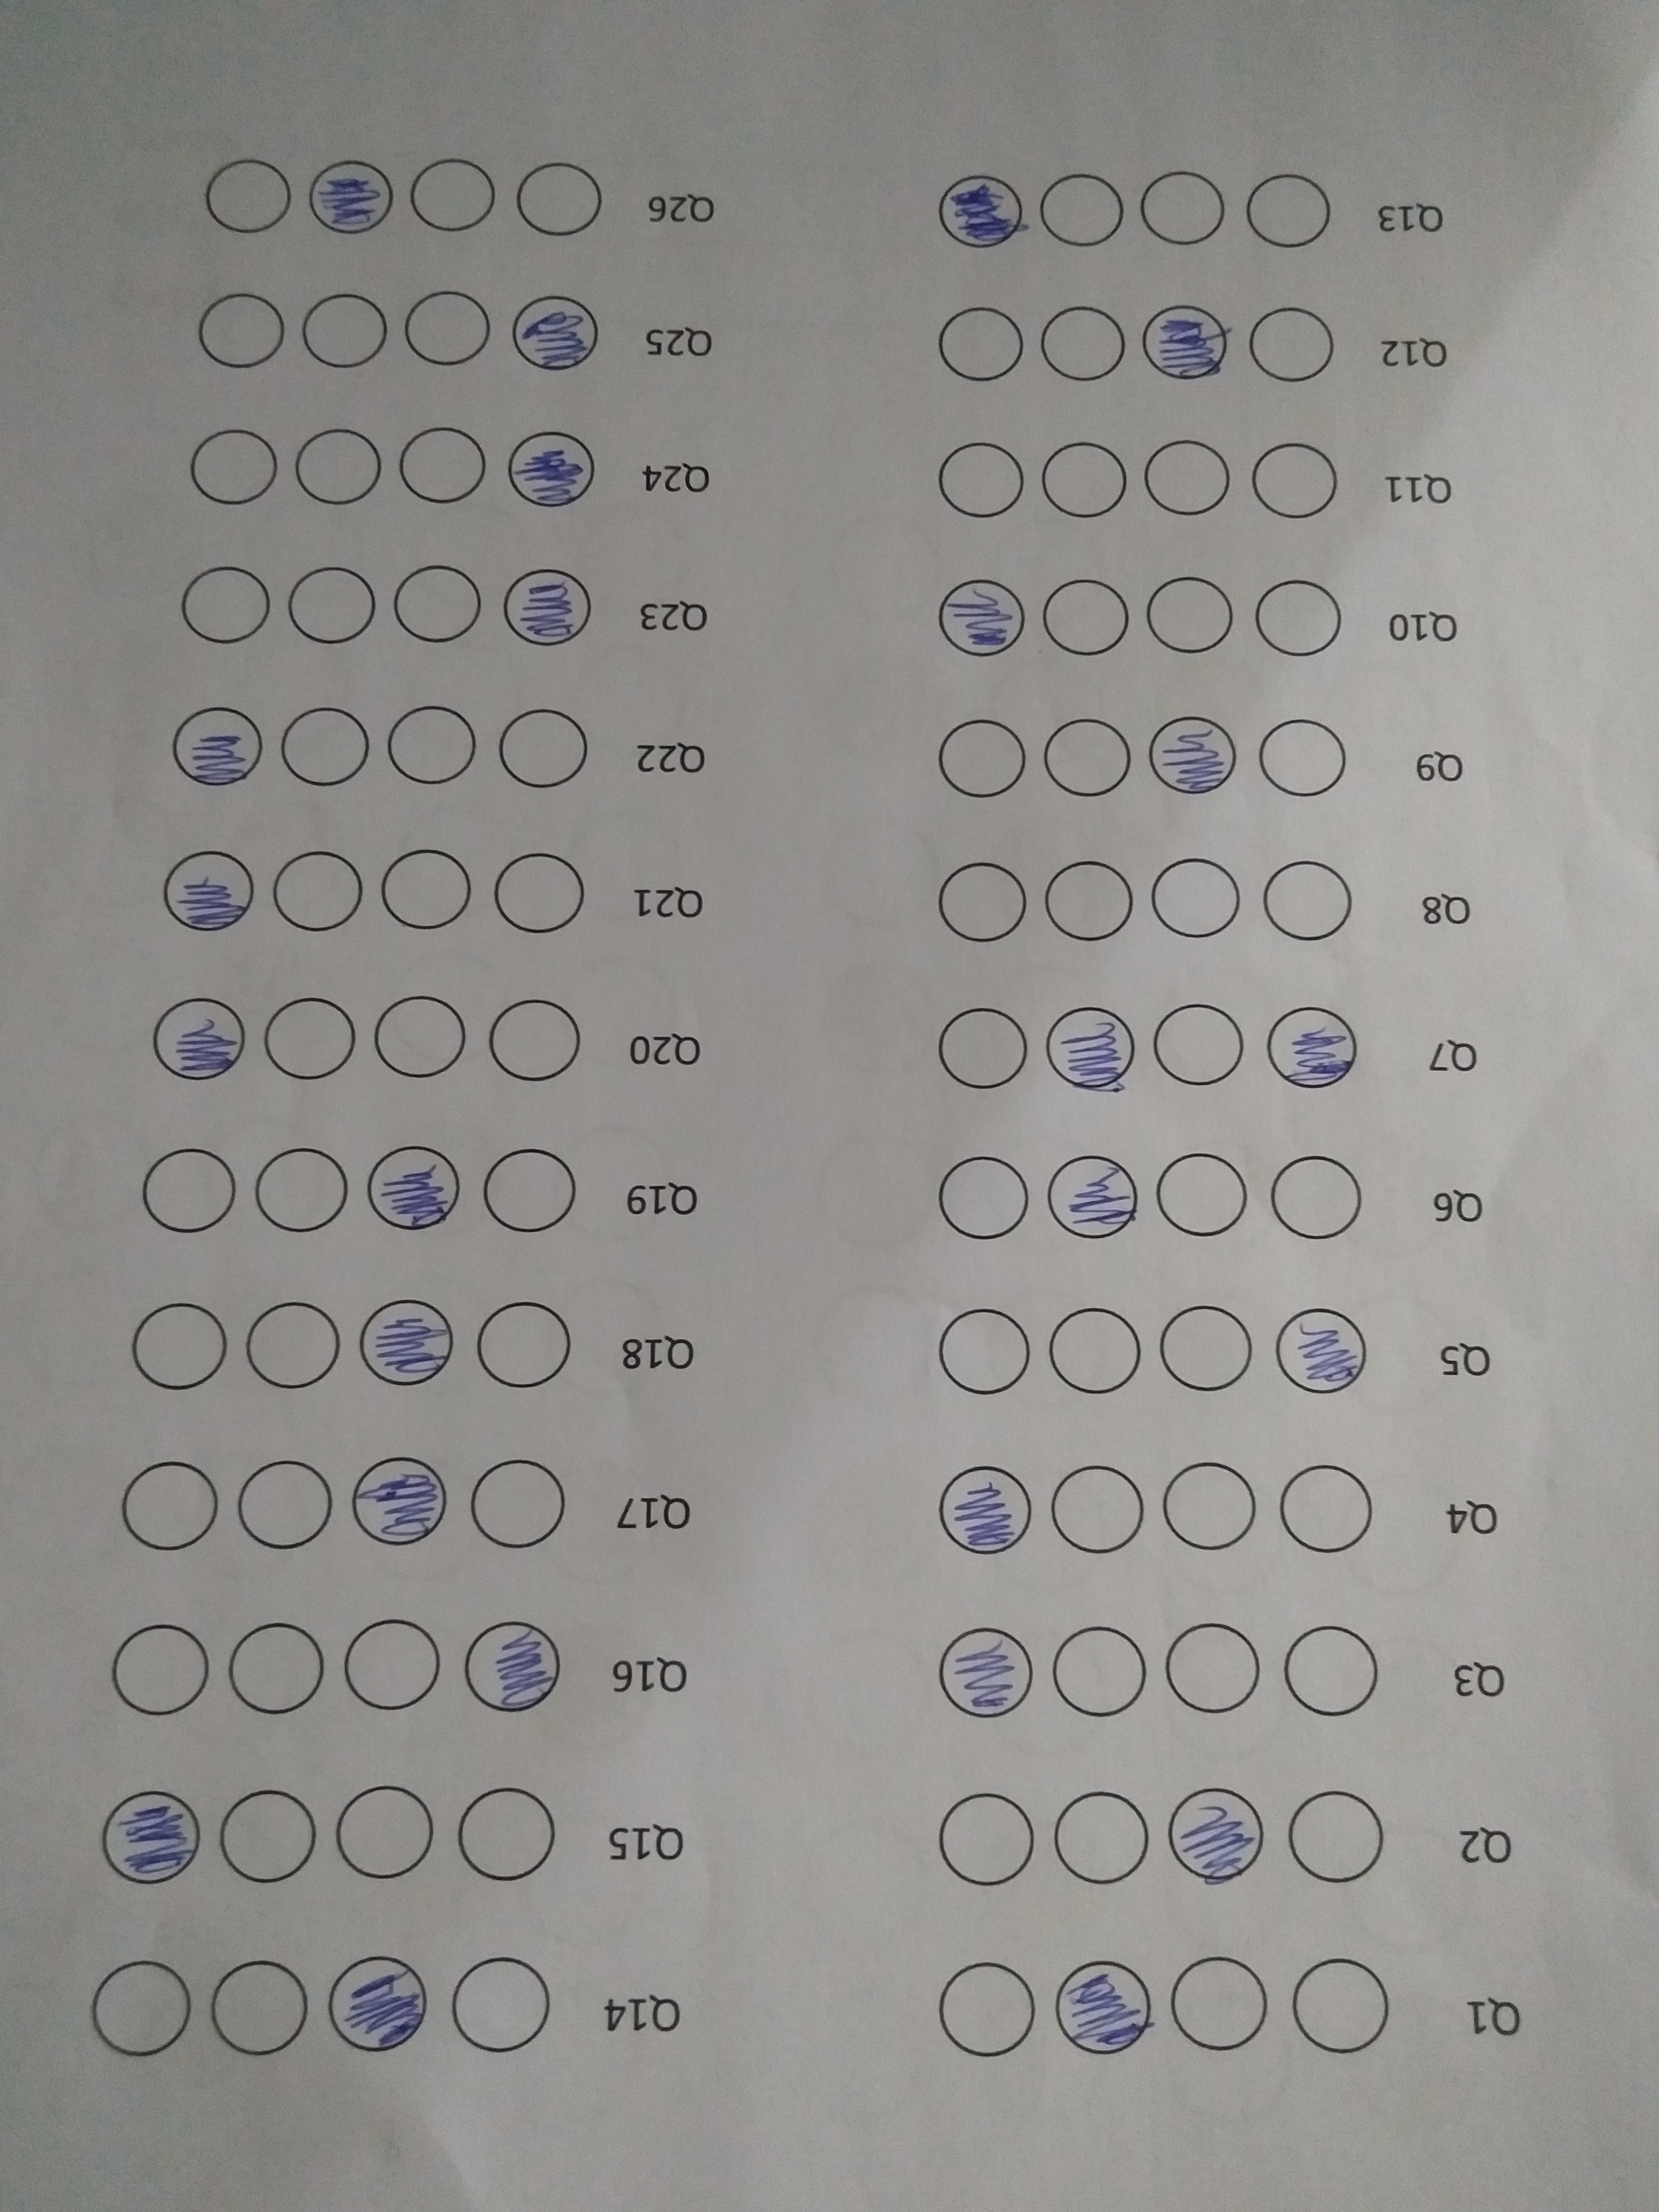not-c: (924, 1298, 1042, 1399), (211, 1785, 324, 1886), (474, 1298, 587, 1399), (931, 1961, 1042, 2062), (202, 1956, 314, 2057), (85, 1958, 197, 2059), (333, 1780, 444, 1881), (115, 1453, 227, 1554), (242, 1299, 354, 1400), (132, 1136, 244, 1237), (242, 1141, 354, 1242), (362, 988, 474, 1089), (249, 989, 361, 1090), (378, 843, 490, 944), (484, 698, 596, 799), (166, 561, 277, 662), (282, 554, 394, 655), (455, 1784, 568, 1883), (274, 697, 387, 796), (1166, 1951, 1277, 2050), (448, 1956, 559, 2055), (342, 1616, 453, 1716), (220, 1620, 331, 1719), (105, 1623, 216, 1723), (228, 1451, 340, 1550), (464, 1454, 575, 1554), (127, 1298, 239, 1397), (477, 1139, 589, 1238), (481, 991, 592, 1090), (268, 845, 380, 944), (490, 845, 601, 944), (376, 697, 488, 796), (380, 552, 491, 651), (1243, 566, 1354, 665), (1138, 566, 1249, 665), (1284, 1785, 1389, 1883), (1290, 1952, 1394, 2050), (505, 155, 619, 244), (934, 1789, 1037, 1886), (934, 1791, 1039, 1886), (1162, 1458, 1269, 1552), (1272, 1463, 1378, 1557), (1274, 1623, 1380, 1717), (1161, 1622, 1267, 1716), (1044, 1625, 1150, 1717), (1044, 1789, 1150, 1881), (936, 707, 1032, 806), (927, 855, 1028, 948), (1040, 857, 1140, 946), (934, 1003, 1033, 1092), (1148, 1001, 1248, 1090), (1147, 855, 1246, 944), (932, 1155, 1032, 1244), (1154, 1151, 1253, 1240), (1155, 1303, 1255, 1392), (1046, 1306, 1145, 1395), (1053, 1463, 1152, 1552), (929, 434, 1028, 523), (1039, 432, 1138, 521), (1143, 432, 1243, 521), (1246, 434, 1345, 523), (1244, 305, 1344, 394), (929, 303, 1028, 392), (1033, 167, 1133, 256), (1133, 165, 1232, 254), (403, 155, 502, 244), (192, 150, 291, 239), (296, 280, 396, 369), (392, 425, 491, 514), (183, 425, 282, 514), (934, 1003, 1032, 1092), (1267, 1153, 1364, 1242), (1256, 857, 1356, 944), (1035, 573, 1134, 660), (1033, 307, 1133, 394), (1241, 167, 1340, 254), (192, 286, 291, 373), (403, 282, 500, 369), (289, 421, 387, 509), (1040, 714, 1134, 803), (1256, 714, 1351, 803)
taken-c: (1164, 1782, 1272, 1888), (319, 1952, 430, 2055), (1046, 1956, 1157, 2057), (94, 1787, 206, 1888), (460, 1618, 566, 1719), (343, 1451, 453, 1548), (929, 1467, 1035, 1559), (1267, 1305, 1373, 1397), (929, 1627, 1035, 1719), (349, 1298, 455, 1390), (364, 1143, 471, 1235), (141, 995, 247, 1087), (152, 843, 258, 935), (1131, 300, 1237, 392), (500, 284, 606, 376), (491, 425, 598, 517), (491, 559, 598, 651), (164, 700, 270, 792), (298, 153, 399, 242), (925, 165, 1026, 254), (1260, 1001, 1361, 1090), (1040, 1153, 1141, 1242), (934, 570, 1033, 658), (1040, 1003, 1141, 1090), (1147, 712, 1241, 799)
